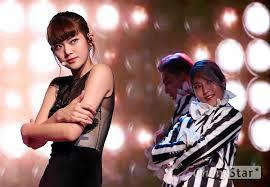earphone: (87, 38, 94, 43)
